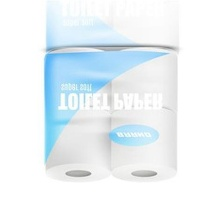tissue: (34, 39, 186, 192)
